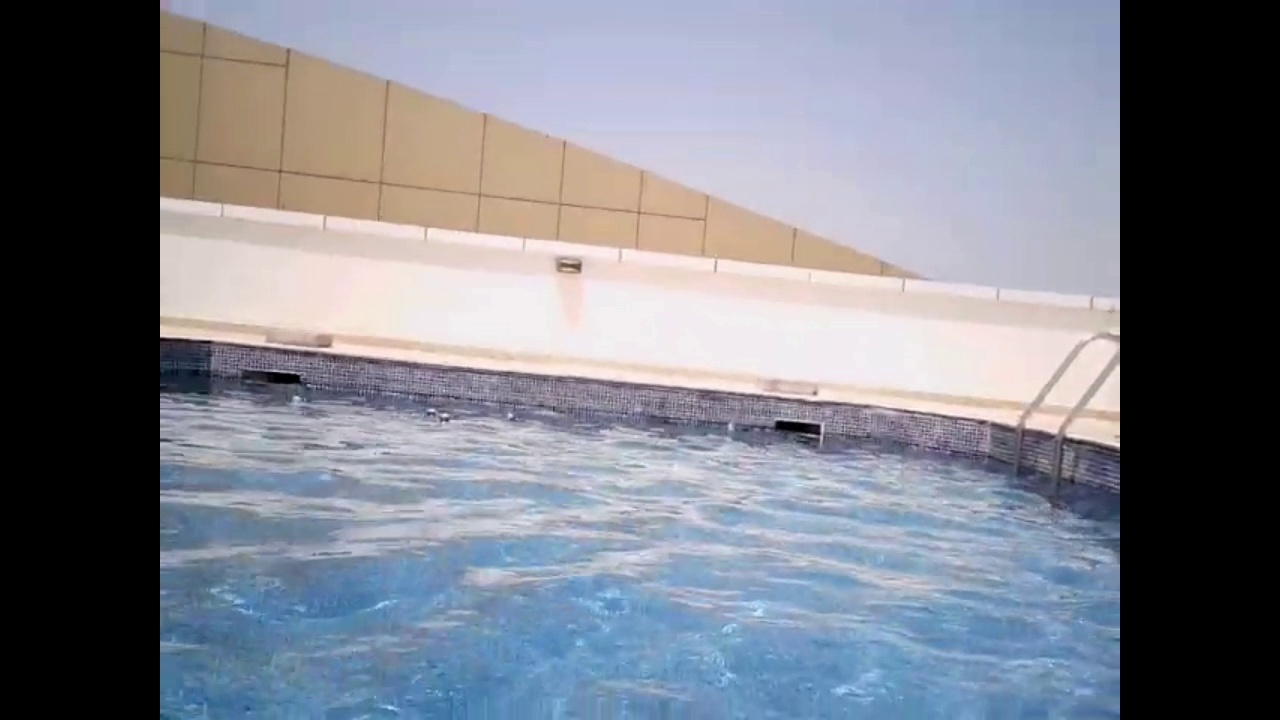debris: (422, 403, 440, 422), (290, 391, 306, 407), (435, 409, 450, 426), (503, 408, 519, 423)
